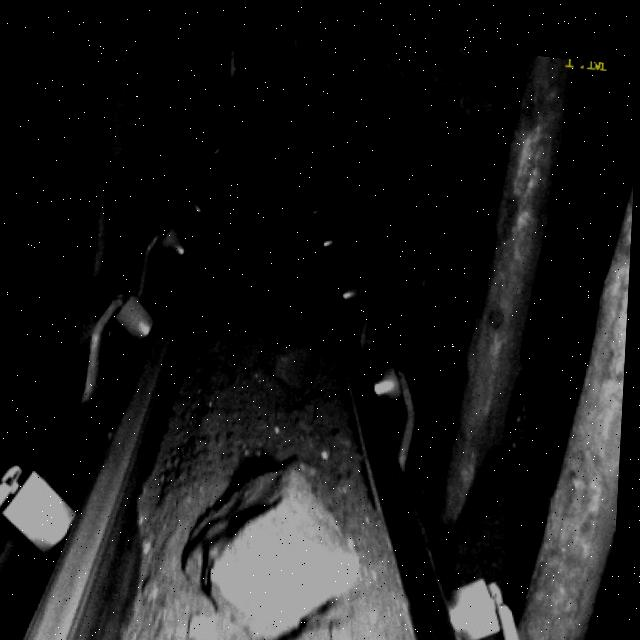large_sized_coal: (190, 451, 377, 632), (261, 334, 324, 385)
